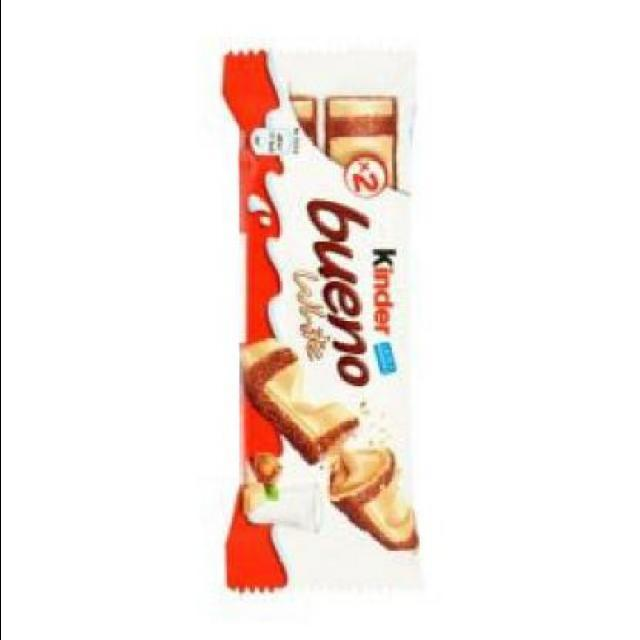Chocolate bar: (212, 34, 430, 616)
